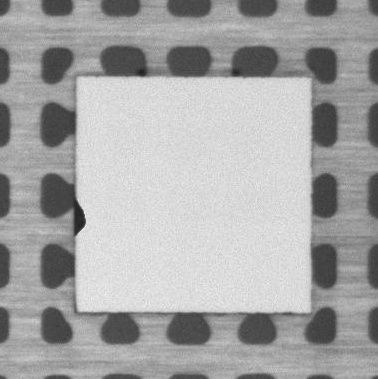DIE_BROKEN: (71, 202, 88, 239)
